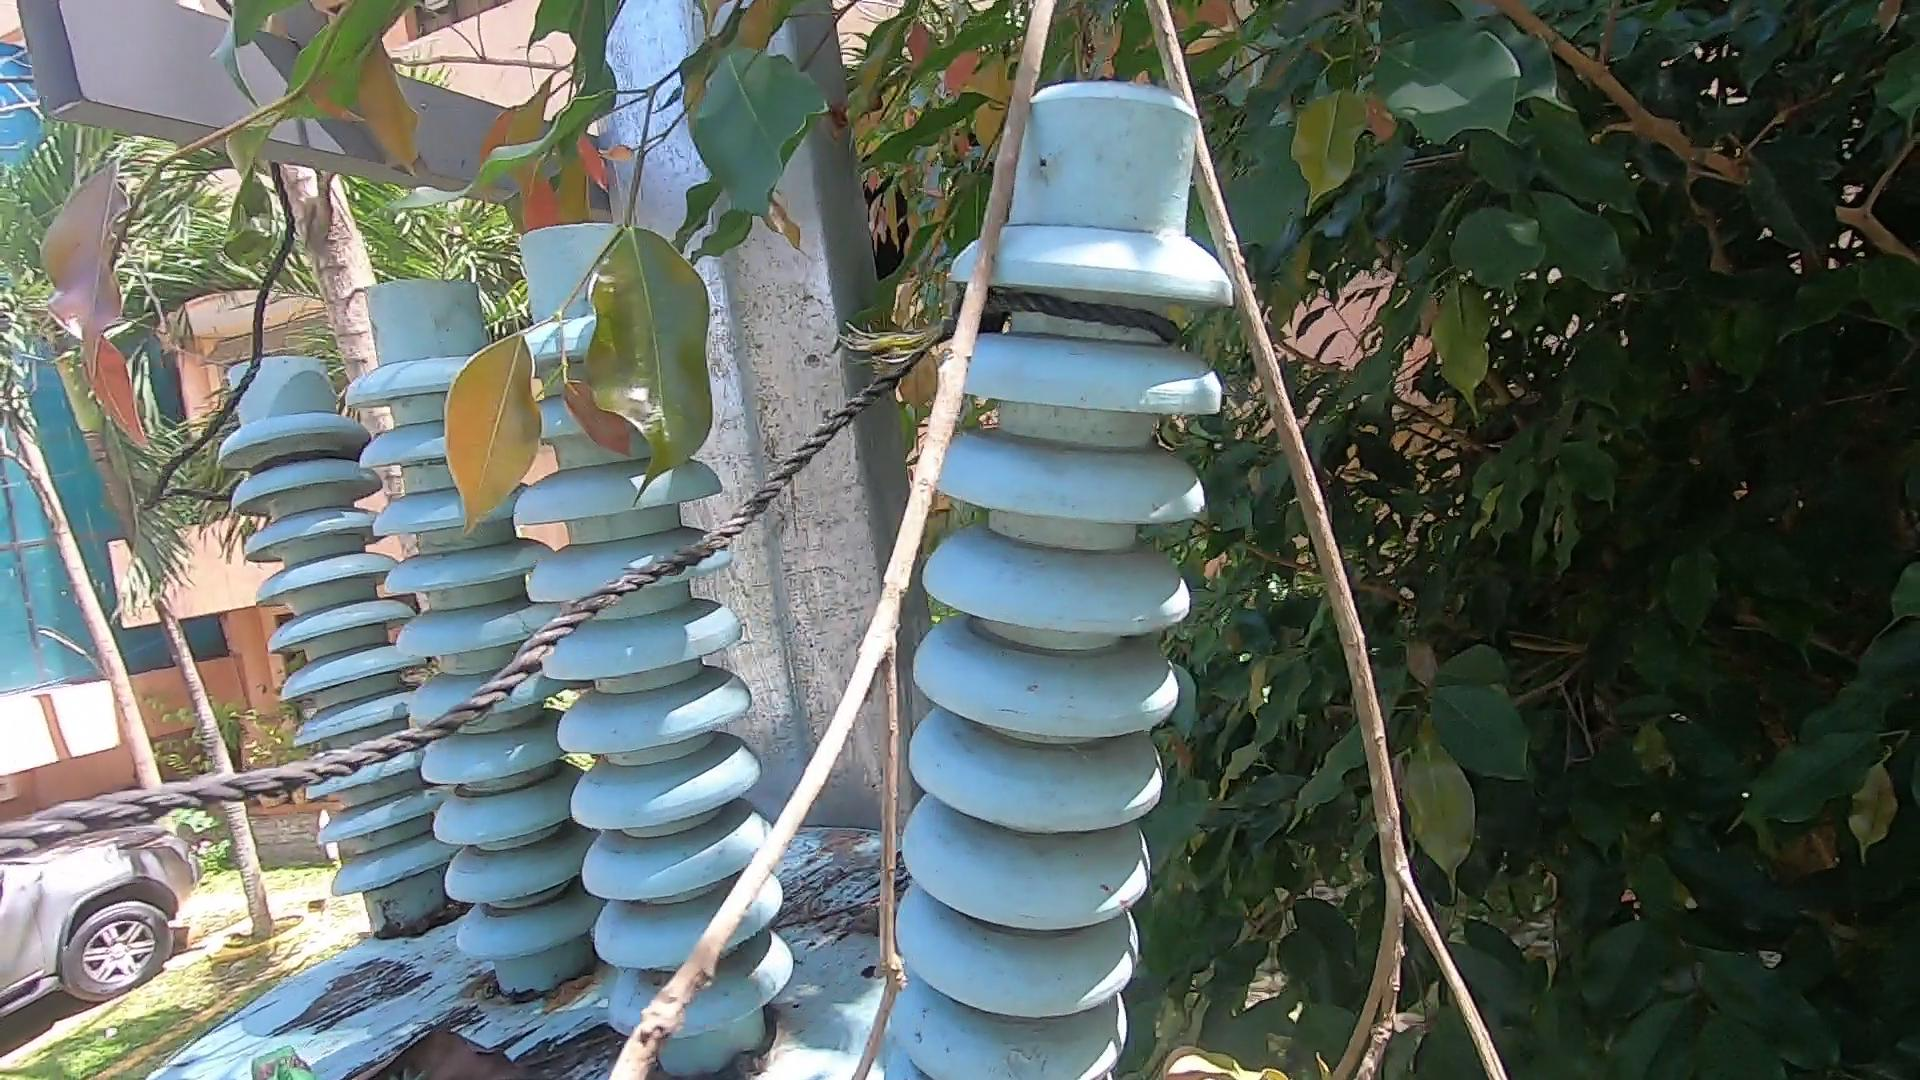leaf: (328, 1025, 535, 1080)
tree branch: (600, 1, 1565, 1073)
